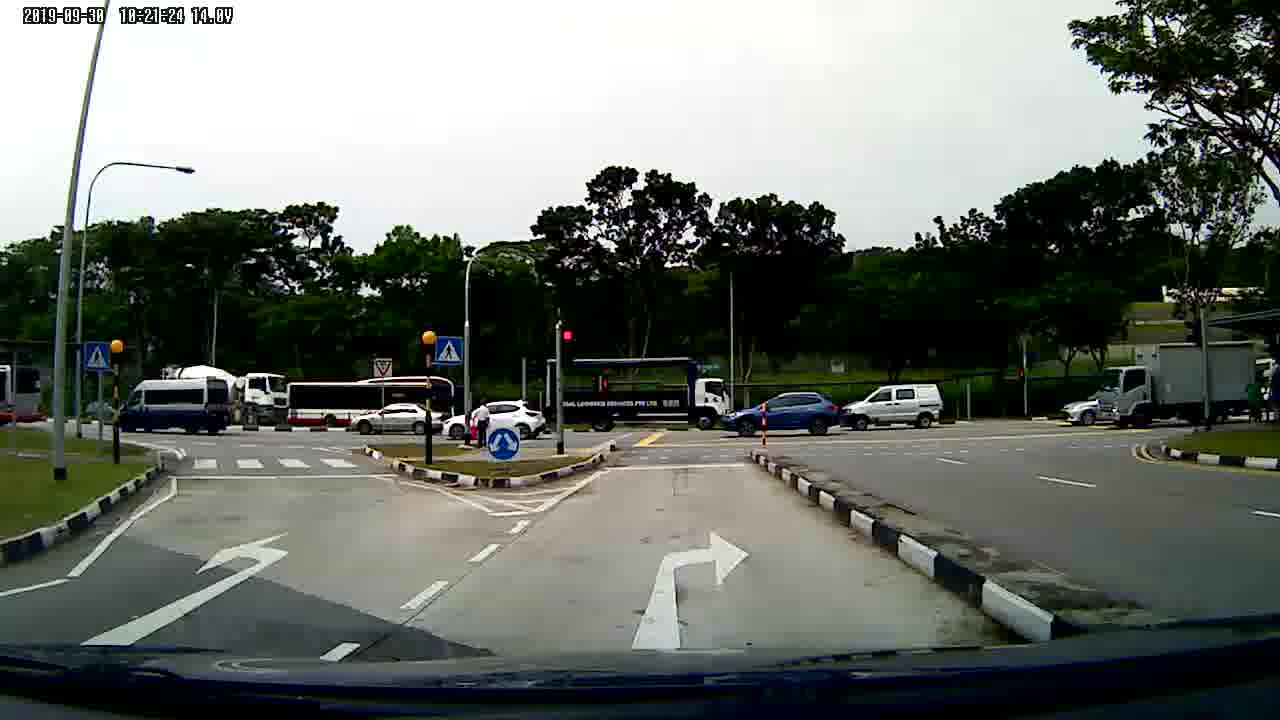bus: (285, 373, 464, 434), (1, 361, 50, 430)
car: (724, 390, 844, 438), (443, 401, 548, 446), (348, 401, 444, 436)
